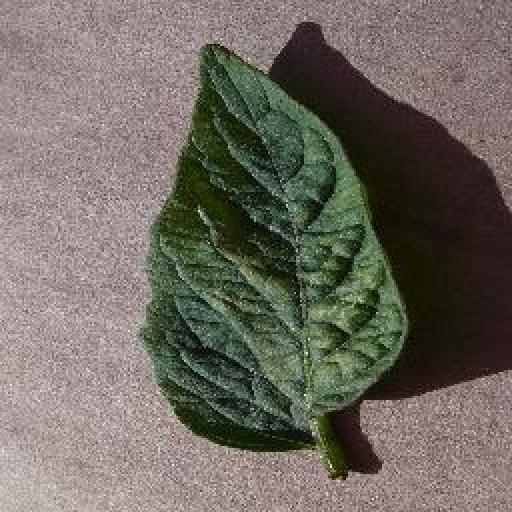disease_tomato: (143, 39, 406, 456)
